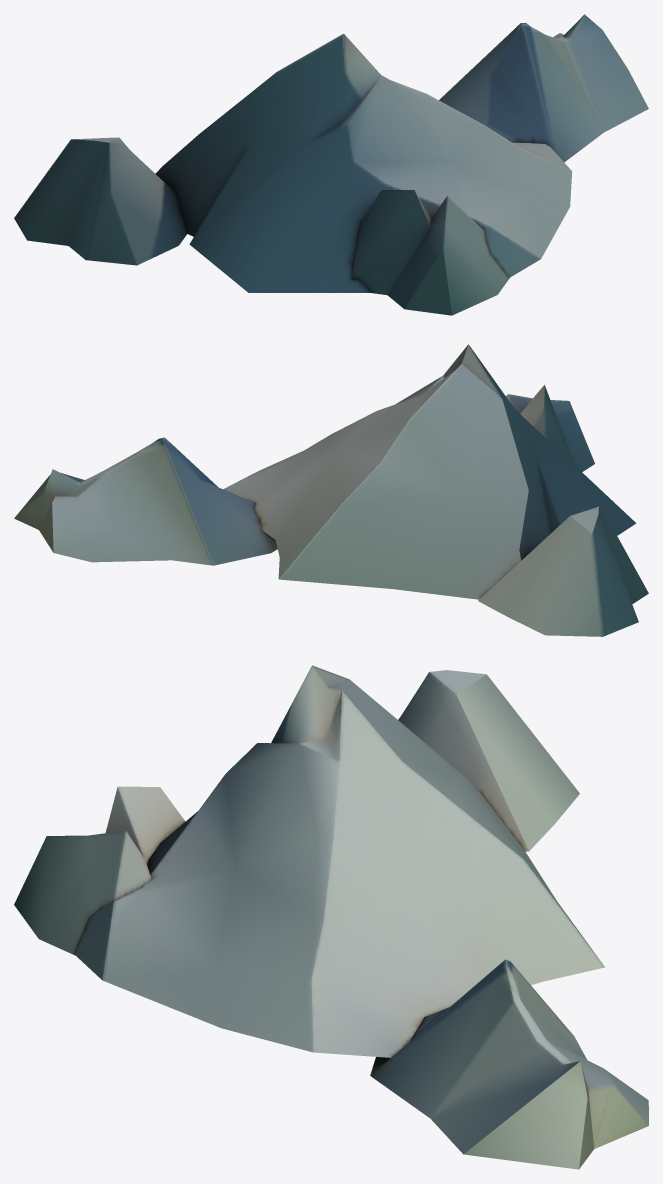
File: Sce_worldmap_mountain_03.FBX
The picture shows the model from 3 angles, top to bottom: view 1: azimuth 30°, elevation 25°; view 2: azimuth 150°, elevation 25°; view 3: azimuth 270°, elevation 25°; orthographic projection. The views are drawn at different scales.
Visible parts, largest first — view 1: Sce_worldmap_mountain_03; view 2: Sce_worldmap_mountain_03; view 3: Sce_worldmap_mountain_03.
Part boxes in pixels (x1,y1,x2,y2): Sce_worldmap_mountain_03: (14,14,648,315); Sce_worldmap_mountain_03: (14,344,648,636); Sce_worldmap_mountain_03: (14,665,648,1169).
Bounding box in the file's own units: 176 × 54.49 × 119.
